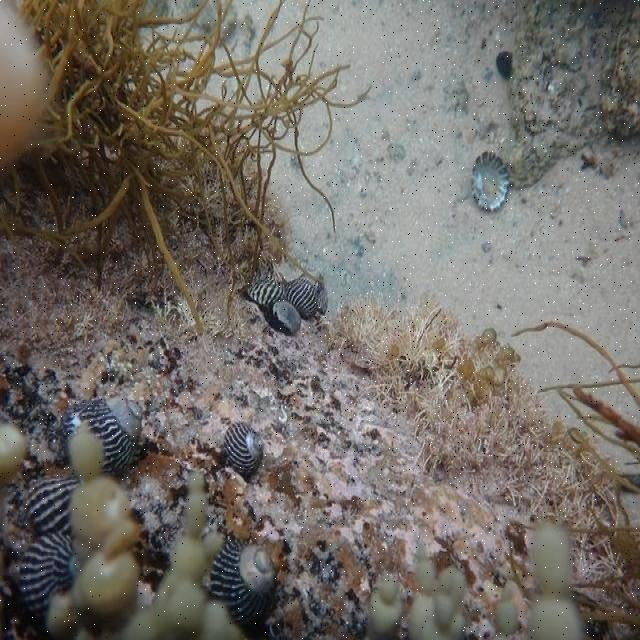aquatic plants: (0, 0, 373, 334), (324, 293, 627, 586)
reefs: (201, 540, 274, 636), (56, 393, 142, 472), (16, 535, 82, 626), (244, 276, 329, 334), (11, 476, 80, 534), (223, 422, 264, 481)
